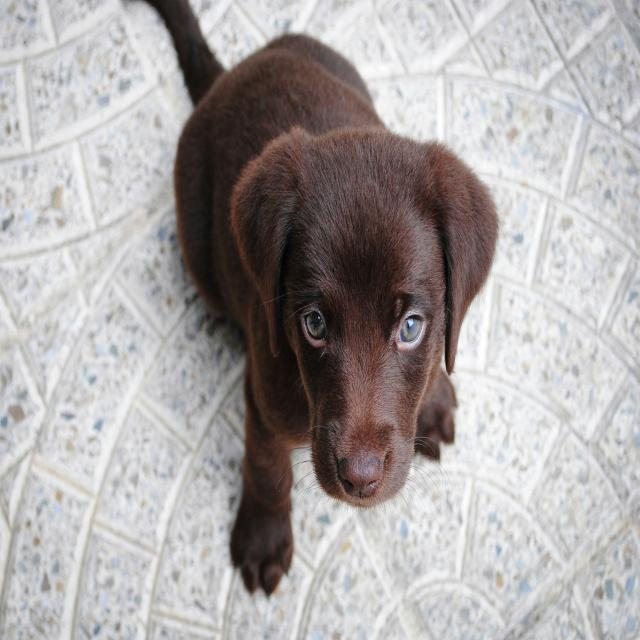dog: (212, 96, 510, 514)
